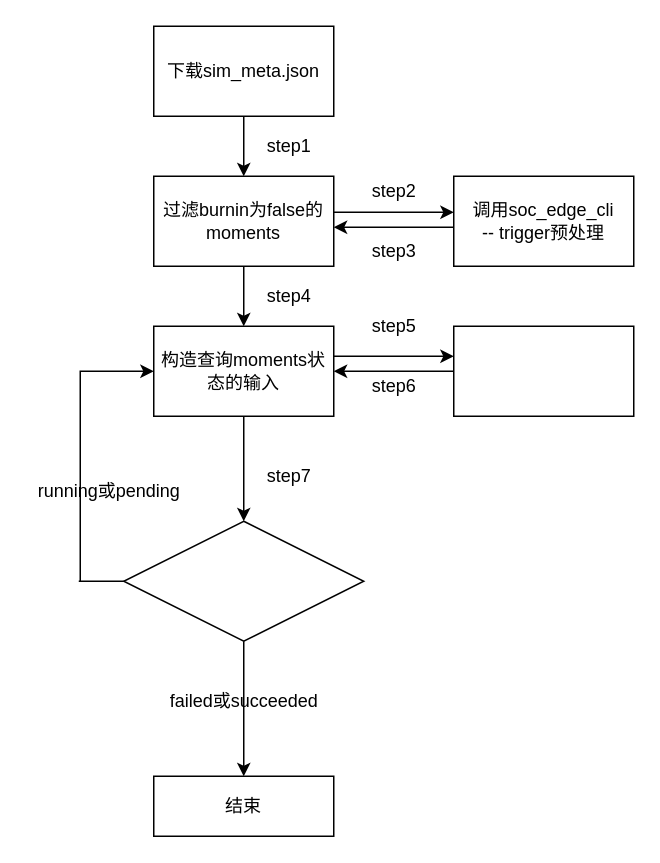
Some shapes in this 660 by 863 pixel diagram are drawn without their labels. The shapes that lost their labels are listed below. From the top down, each one's centre as x and y in pixels, then its label:
At [543,370]: "调用soc_edge_cli -- status查询状态".
At [243,580]: "判断moments和tasks状态".
